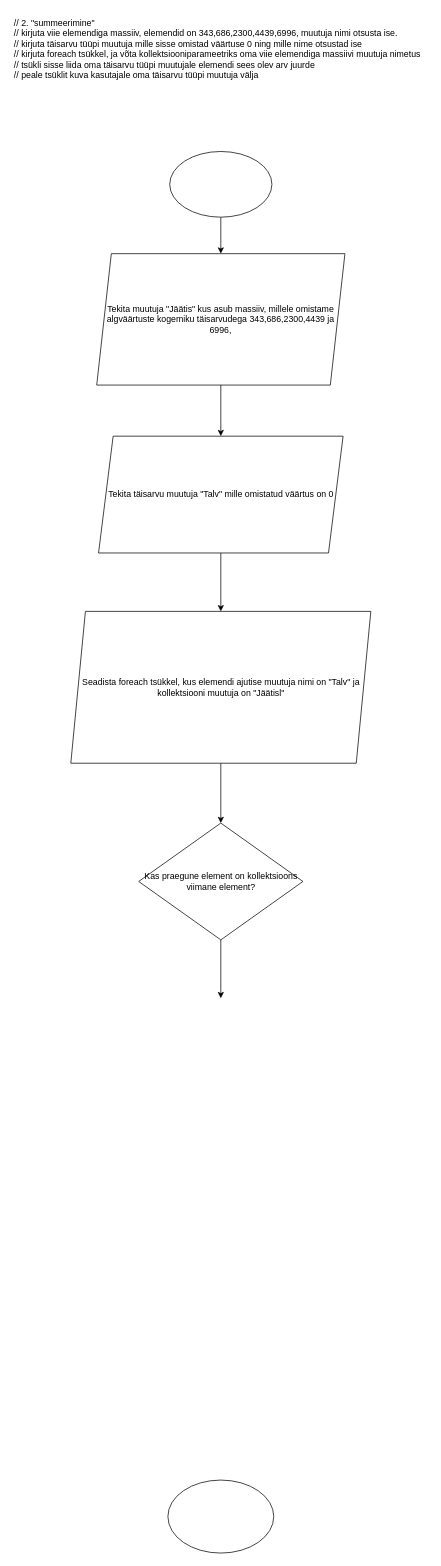
Image size: 441x1566. Some labels were removed from this diagram. Here are the shapes that lost their labels. From the top down, the centre of each, then its label:
At (220,184): "Algus".
At (220,1516): "Lõpp".
